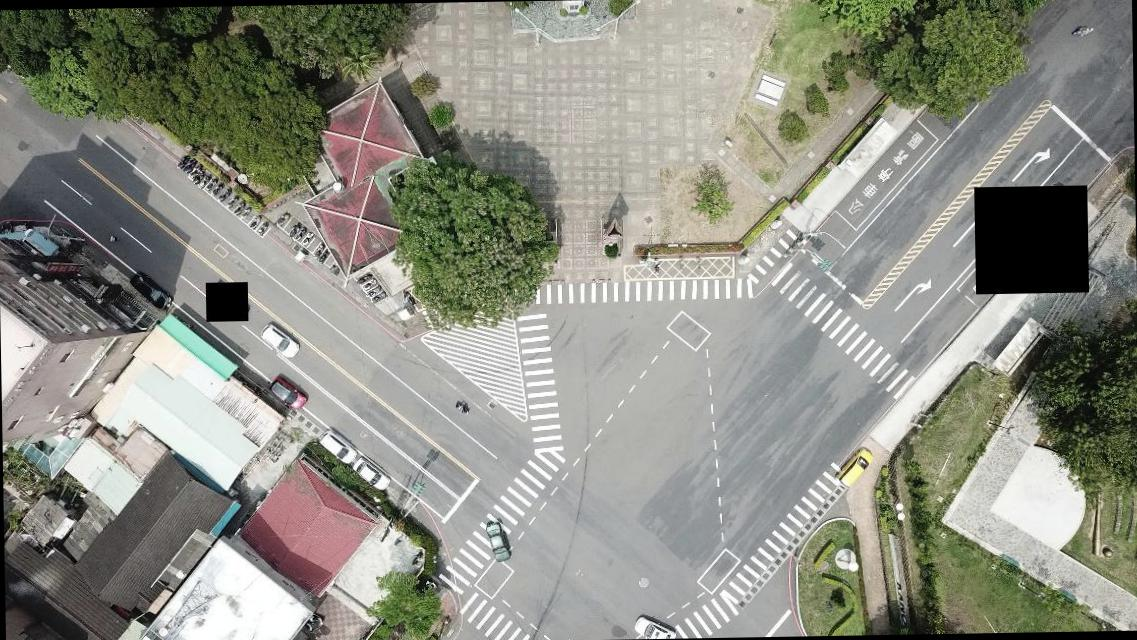vehicle: (129, 271, 172, 311), (835, 448, 875, 489), (261, 322, 301, 360), (318, 426, 357, 464), (268, 377, 309, 412), (353, 457, 391, 492), (486, 520, 512, 562), (634, 615, 678, 638)
